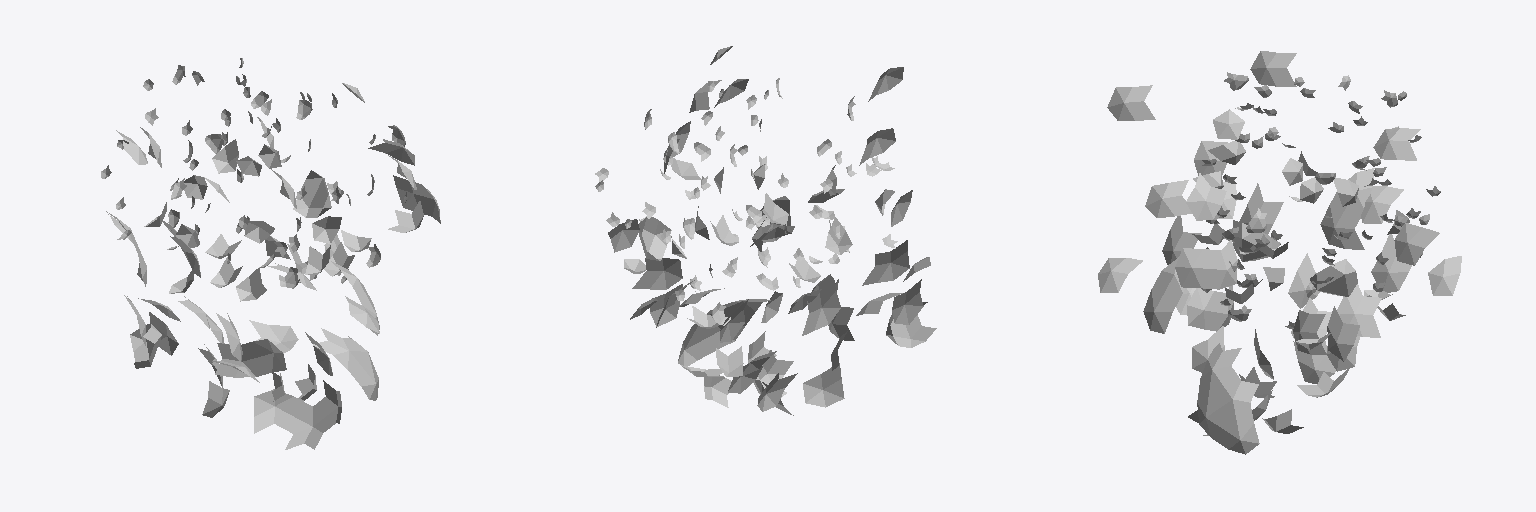
The model's file is azuki_unarmed_exploding_000011.obj.
3 renders of one model, left to right at view 1: azimuth 30°, elevation 25°; view 2: azimuth 150°, elevation 25°; view 3: azimuth 270°, elevation 25°, orthographic.
Visible parts, largest first — view 1: Body_Icosphere.001, Leg.R_Icosphere.002, Leg.L_Icosphere.005, Eye.L_Icosphere.006, Eye.R_Icosphere.004; view 2: Body_Icosphere.001, Leg.R_Icosphere.002, Leg.L_Icosphere.005, Eye.R_Icosphere.004, Eye.L_Icosphere.006; view 3: Body_Icosphere.001, Leg.L_Icosphere.005, Leg.R_Icosphere.002, Eye.R_Icosphere.004, Eye.L_Icosphere.006.
Boxes of the visible parts, box(x1,y1,x2,y2) form: Body_Icosphere.001: box(106, 83, 440, 449); Leg.R_Icosphere.002: box(184, 139, 423, 400); Leg.L_Icosphere.005: box(130, 144, 354, 402); Eye.L_Icosphere.006: box(101, 65, 340, 288); Eye.R_Icosphere.004: box(183, 58, 407, 283); Body_Icosphere.001: box(608, 46, 930, 415); Leg.R_Icosphere.002: box(624, 158, 820, 407); Leg.L_Icosphere.005: box(695, 165, 936, 388); Eye.R_Icosphere.004: box(595, 81, 832, 300); Eye.L_Icosphere.006: box(660, 78, 897, 325); Body_Icosphere.001: box(1098, 51, 1461, 454); Leg.L_Icosphere.005: box(1192, 141, 1405, 397); Leg.R_Icosphere.002: box(1201, 158, 1409, 433); Eye.R_Icosphere.004: box(1206, 88, 1429, 329); Eye.L_Icosphere.006: box(1202, 72, 1440, 287).
Size of the model in its own units: 5.11 by 5.92 by 5.54.